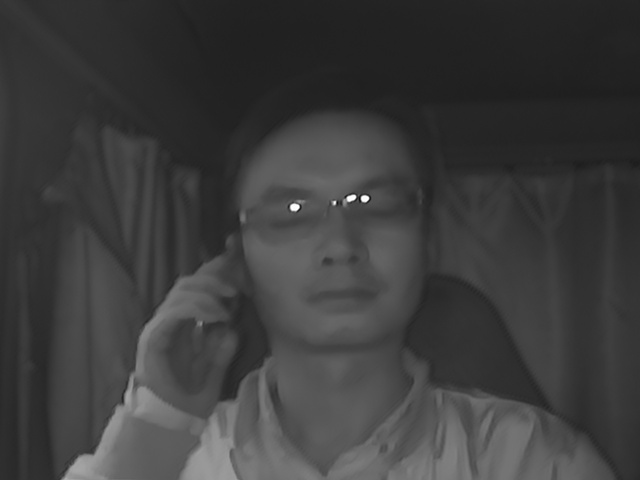hand: (134, 255, 240, 408)
